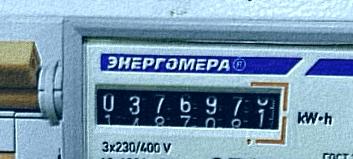0: (100, 91, 116, 112)
1: (256, 107, 267, 128)
3: (127, 93, 141, 116)
6: (179, 92, 192, 113)
7: (153, 91, 166, 115), (230, 94, 243, 117)
9: (204, 93, 217, 115)
screen: (88, 77, 292, 147)
